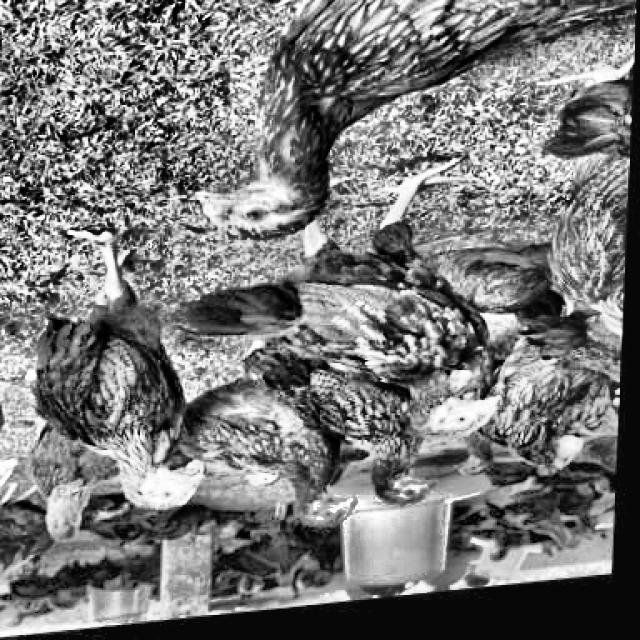Healthy: (240, 196, 282, 226)
